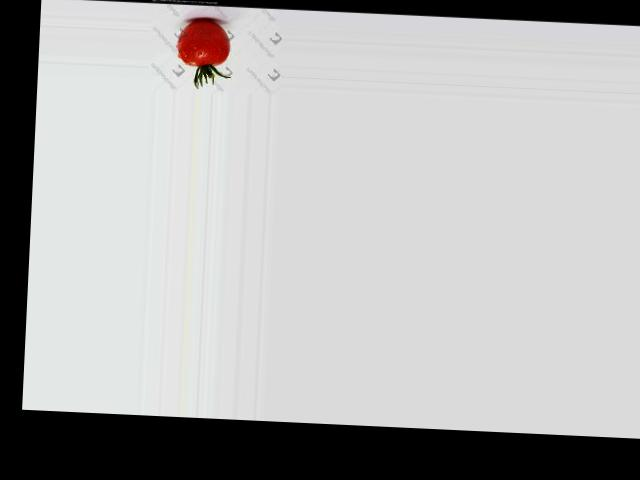tomato: (177, 18, 231, 66)
